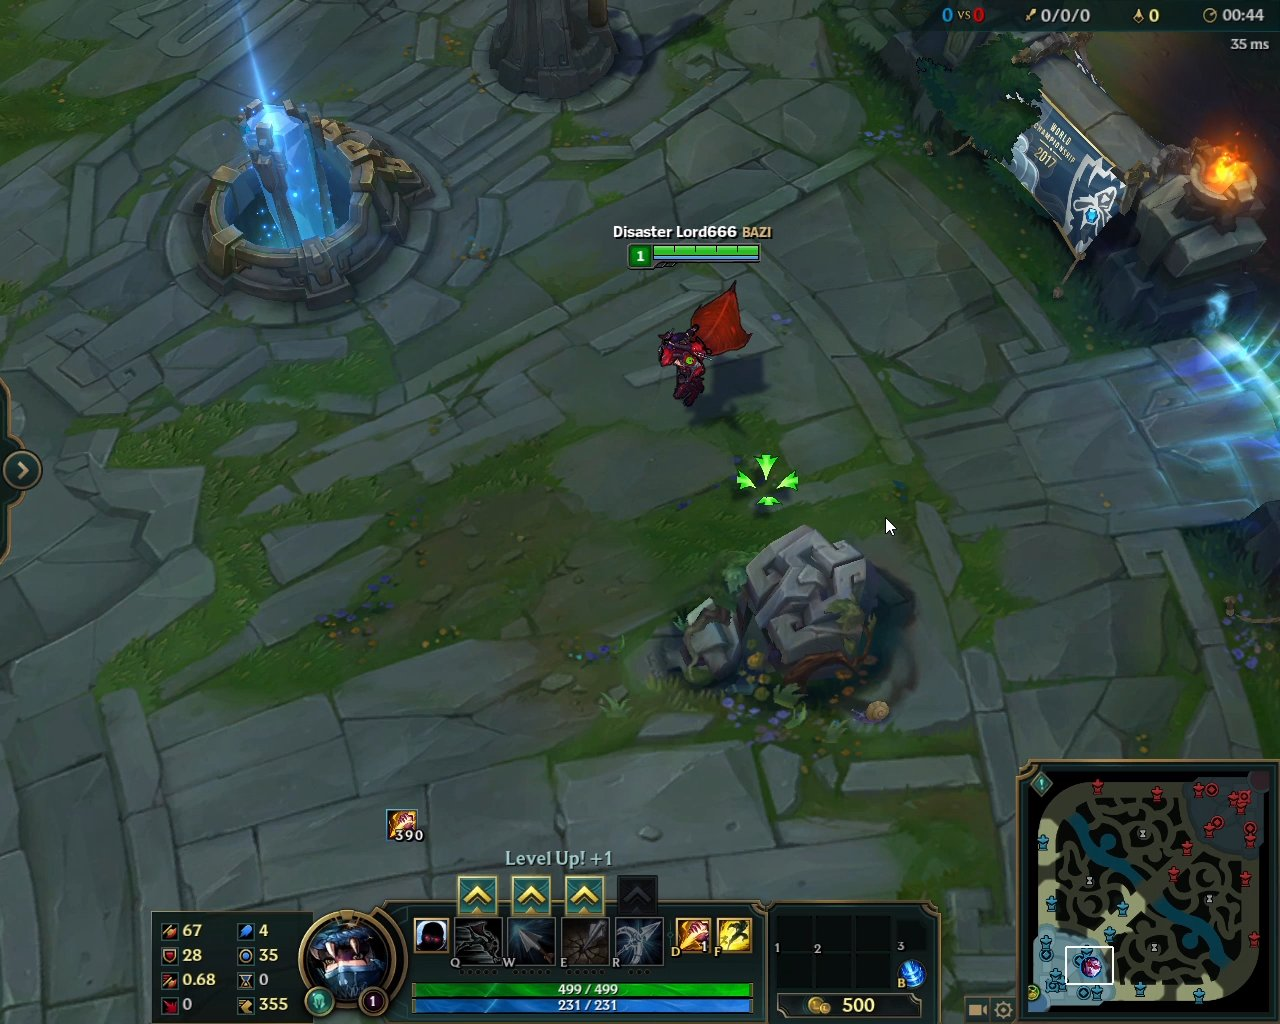Vayne: (651, 275, 760, 415)
